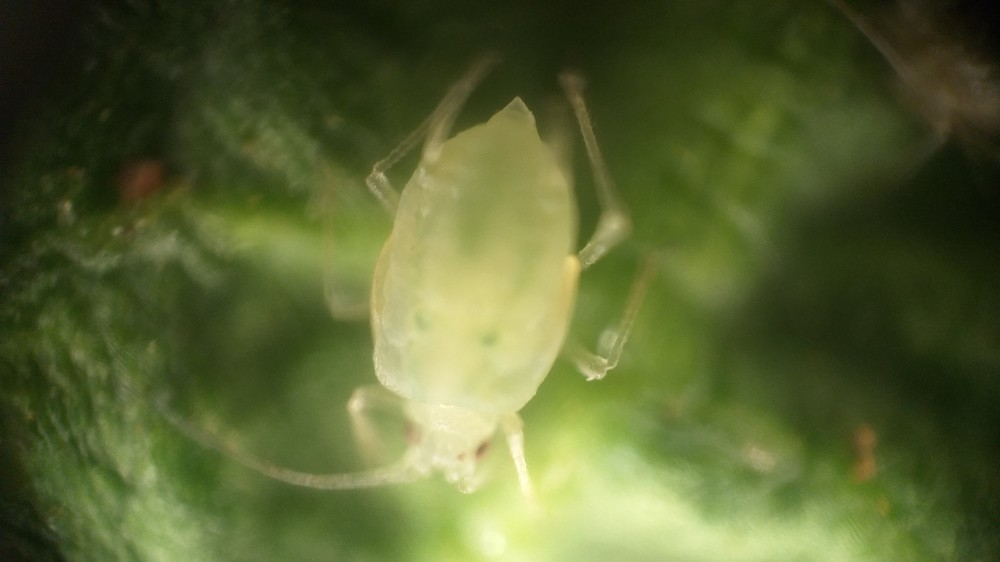Pulgon: (211, 39, 683, 556)
